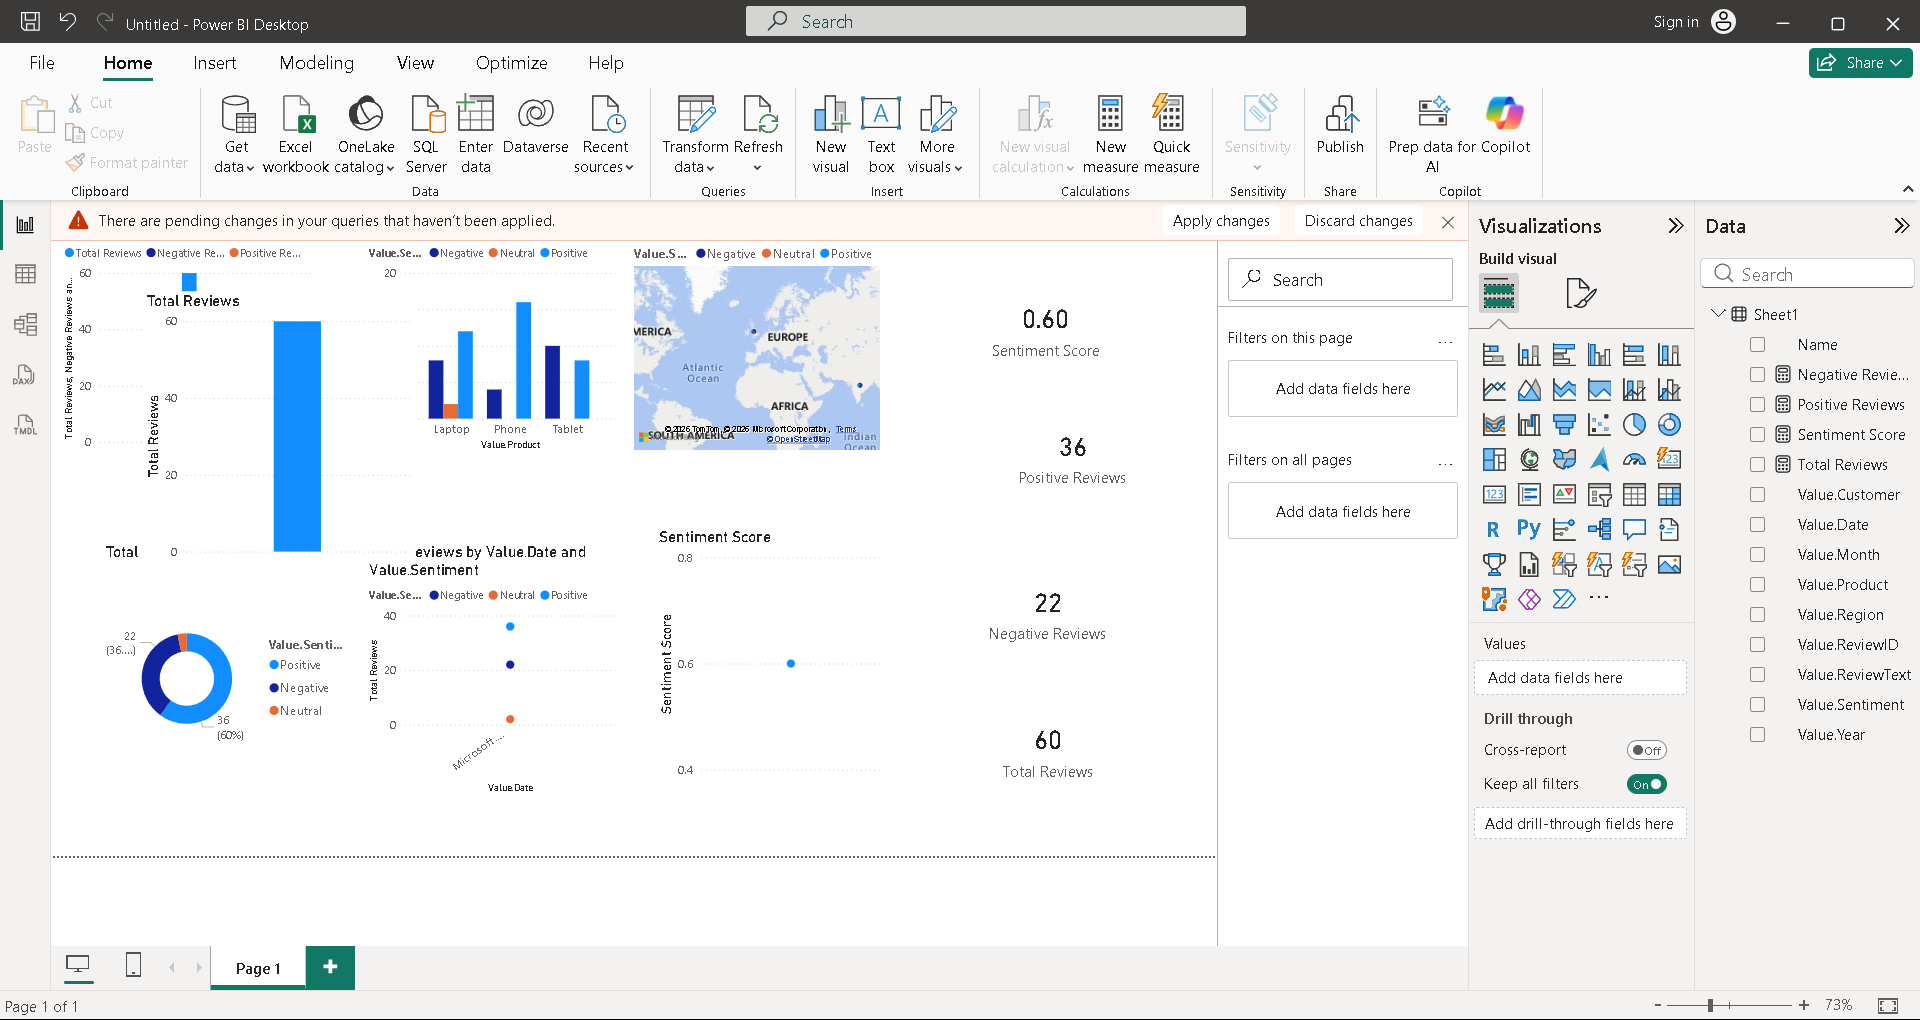

Layout of this report page (visuals, bound fields, positions):
{"tool":"powerbi","page":{"name":"Page 1","canvas":[1280,720],"ordinal":0},"visuals":[{"type":"clusteredColumnChart","fields":{"Y":["Sheet1.Total Reviews","Sheet1.Negative Reviews","Sheet1.Positive Reviews"]},"box":[10,0,280,280],"z":0},{"type":"donutChart","fields":{"Y":["Sheet1.Total Reviews"],"Category":["Sheet1.Value.Sentiment"]},"box":[54.9,376,279.9,279.9],"z":1000},{"type":"clusteredColumnChart","fields":{"Y":["Sheet1.Total Reviews"],"Category":["Sheet1.Value.Product"],"Series":["Sheet1.Value.Sentiment"]},"box":[345,0,280,280],"z":2000},{"type":"lineChart","fields":{"Category":["Sheet1.Value.Date"],"Series":["Sheet1.Value.Sentiment"],"Y":["Sheet1.Total Reviews"]},"box":[345,376,280,280],"z":3000},{"type":"map","fields":{"Category":["Sheet1.Value.Region"],"Series":["Sheet1.Value.Sentiment"],"Y":["Min(Sheet1.Value.ReviewID)"]},"box":[635,0,280,280],"z":4000},{"type":"lineChart","fields":{"Y":["Sheet1.Sentiment Score"]},"box":[662.8,359.5,252.5,279.9],"z":4003},{"type":"card","fields":{"Values":["Sheet1.Sentiment Score"]},"box":[953,0,280,280],"z":4004},{"type":"card","fields":{"Values":["Sheet1.Positive Reviews"]},"box":[981.1,203.1,281.3,153.7],"z":4005},{"type":"card","fields":{"Values":["Sheet1.Negative Reviews"]},"box":[953.7,376,281.3,150.9],"z":4006},{"type":"clusteredColumnChart","fields":{"Y":["Sheet1.Total Reviews"]},"box":[100,100,300,300],"z":4007},{"type":"card","fields":{"Values":["Sheet1.Total Reviews"]},"box":[954,527,281,150],"z":4008}]}

Visuals, with their boxes on the page's 1280x720 design canvas (x1, y1, x2, y2). These are canvas units, not pixel positions in the 1920x1020 screenshot, which may show the page scaled, cropped or inside an application window:
clusteredColumnChart - Sheet1.Total Reviews x Sheet1.Negative Reviews: [left=10, top=0, right=290, bottom=280]
donutChart - Sheet1.Total Reviews x Sheet1.Value.Sentiment: [left=55, top=376, right=335, bottom=656]
clusteredColumnChart - Sheet1.Total Reviews x Sheet1.Value.Product: [left=345, top=0, right=625, bottom=280]
lineChart - Sheet1.Value.Date x Sheet1.Value.Sentiment: [left=345, top=376, right=625, bottom=656]
map - Sheet1.Value.Region x Sheet1.Value.Sentiment: [left=635, top=0, right=915, bottom=280]
lineChart - Sheet1.Sentiment Score: [left=663, top=360, right=915, bottom=639]
card - Sheet1.Sentiment Score: [left=953, top=0, right=1233, bottom=280]
card - Sheet1.Positive Reviews: [left=981, top=203, right=1262, bottom=357]
card - Sheet1.Negative Reviews: [left=954, top=376, right=1235, bottom=527]
clusteredColumnChart - Sheet1.Total Reviews: [left=100, top=100, right=400, bottom=400]
card - Sheet1.Total Reviews: [left=954, top=527, right=1235, bottom=677]
